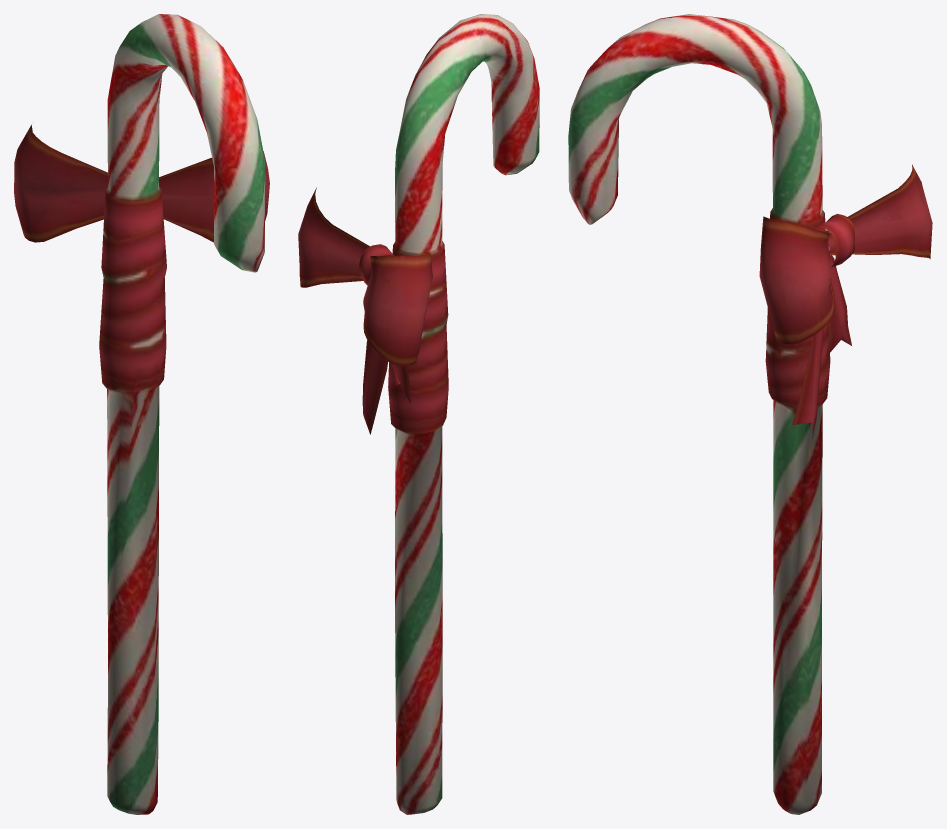
The model's file is candy_cane.worldmodel.glb.
3 views of the same model, side by side, from view 1: azimuth 30°, elevation 25°; view 2: azimuth 150°, elevation 25°; view 3: azimuth 270°, elevation 25° (orthographic). The views are drawn at different scales.
Parts seen in each view (by area): view 1: w_candy_cane_club_LOD0; view 2: w_candy_cane_club_LOD0; view 3: w_candy_cane_club_LOD0.
Part boxes in pixels (x1,y1,x2,y2): w_candy_cane_club_LOD0: (14, 14, 269, 814); w_candy_cane_club_LOD0: (298, 14, 539, 814); w_candy_cane_club_LOD0: (568, 14, 932, 814).
Size of the model in its own units: 0.1312 by 0.5436 by 0.2266.
Materials: 1 (1 with a texture image).
